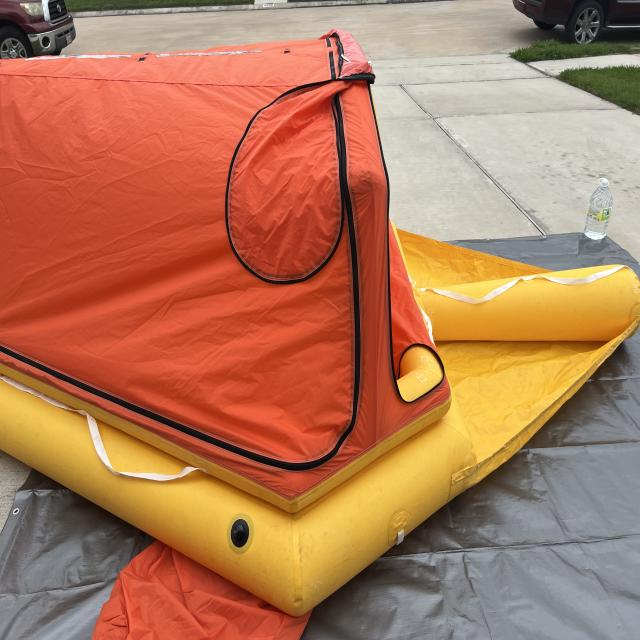Multi-person_life_raft: (1, 28, 640, 639)
